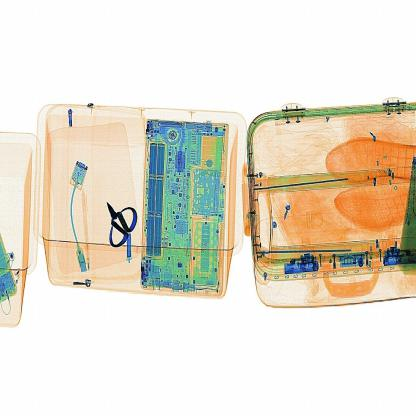gun: (101, 193, 142, 254)
